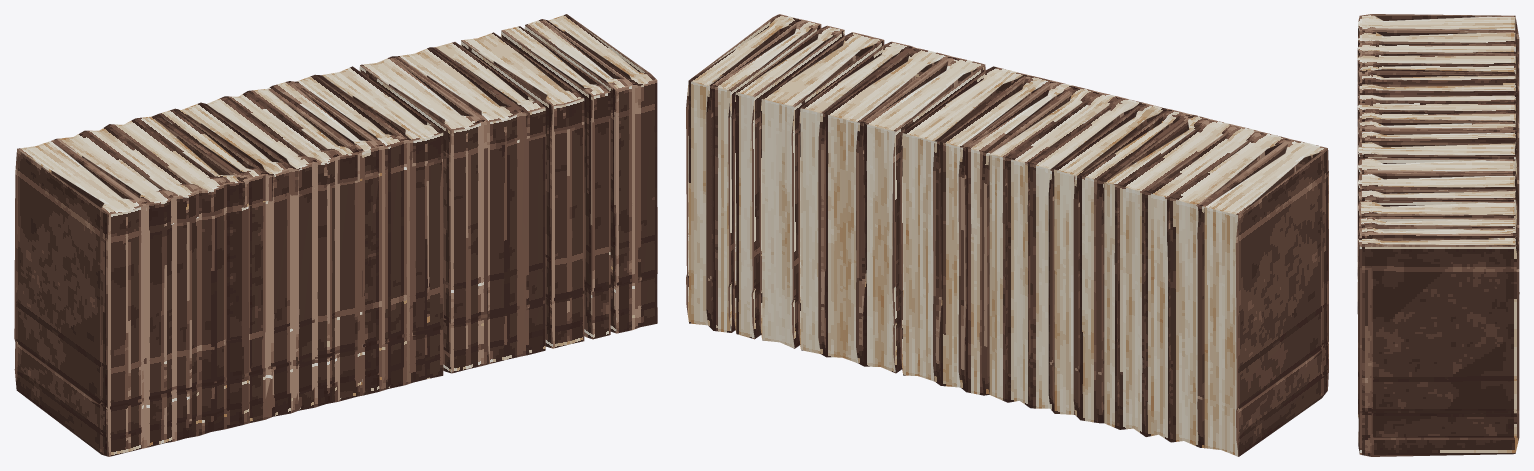
The model's file is book_encyclopedia_set_01.glb.
The picture shows the model from 3 angles, left to right: view 1: azimuth 30°, elevation 25°; view 2: azimuth 150°, elevation 25°; view 3: azimuth 270°, elevation 25°; orthographic projection. The views are drawn at different scales.
Parts seen in each view (by area): view 1: mesh; view 2: mesh; view 3: mesh.
Boxes of the visible parts, left/top/right/bottom form: mesh: left=14, top=14, right=657, bottom=456; mesh: left=686, top=14, right=1328, bottom=456; mesh: left=1357, top=14, right=1519, bottom=456.
Bounding box in the file's own units: 33.03 × 14.25 × 9.8.
1 material, 1 textured.
